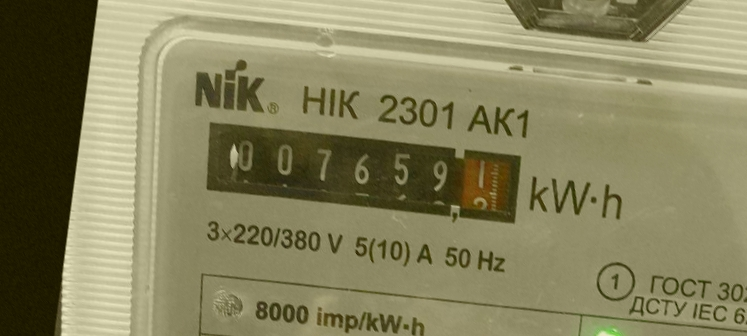0: (233, 135, 259, 177), (272, 140, 299, 180)
1: (472, 155, 492, 193)
5: (390, 150, 414, 189)
6: (349, 149, 376, 188)
7: (310, 144, 335, 185)
9: (427, 157, 453, 196)
screen: (192, 109, 534, 240)
